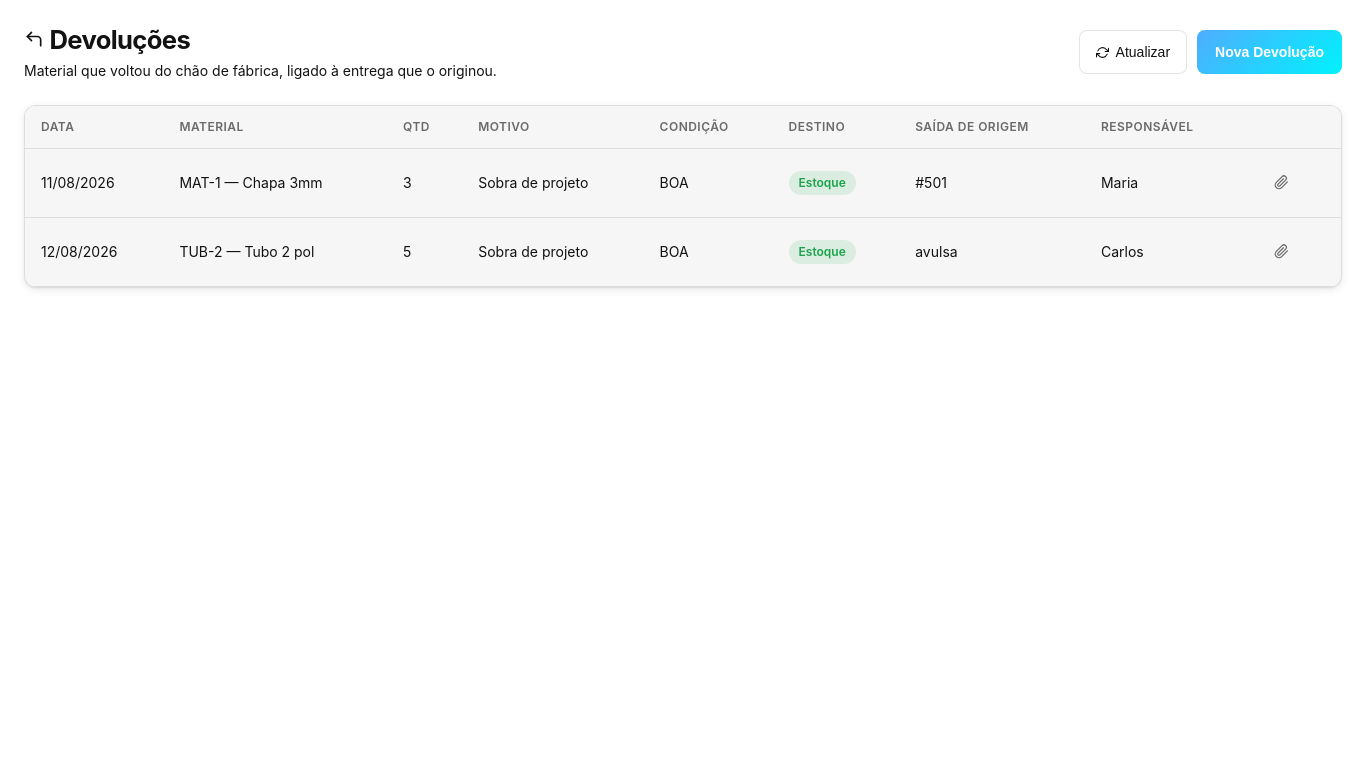
DevolucoesAlmoxarifado — lote e série › lote herdado da saída aparece em leitura, sem seletor
The width and height of the screenshot is (1366, 768).
Click the button "Nova Devolução" at coordinates (1270, 52), box [1197, 30, 1342, 74]
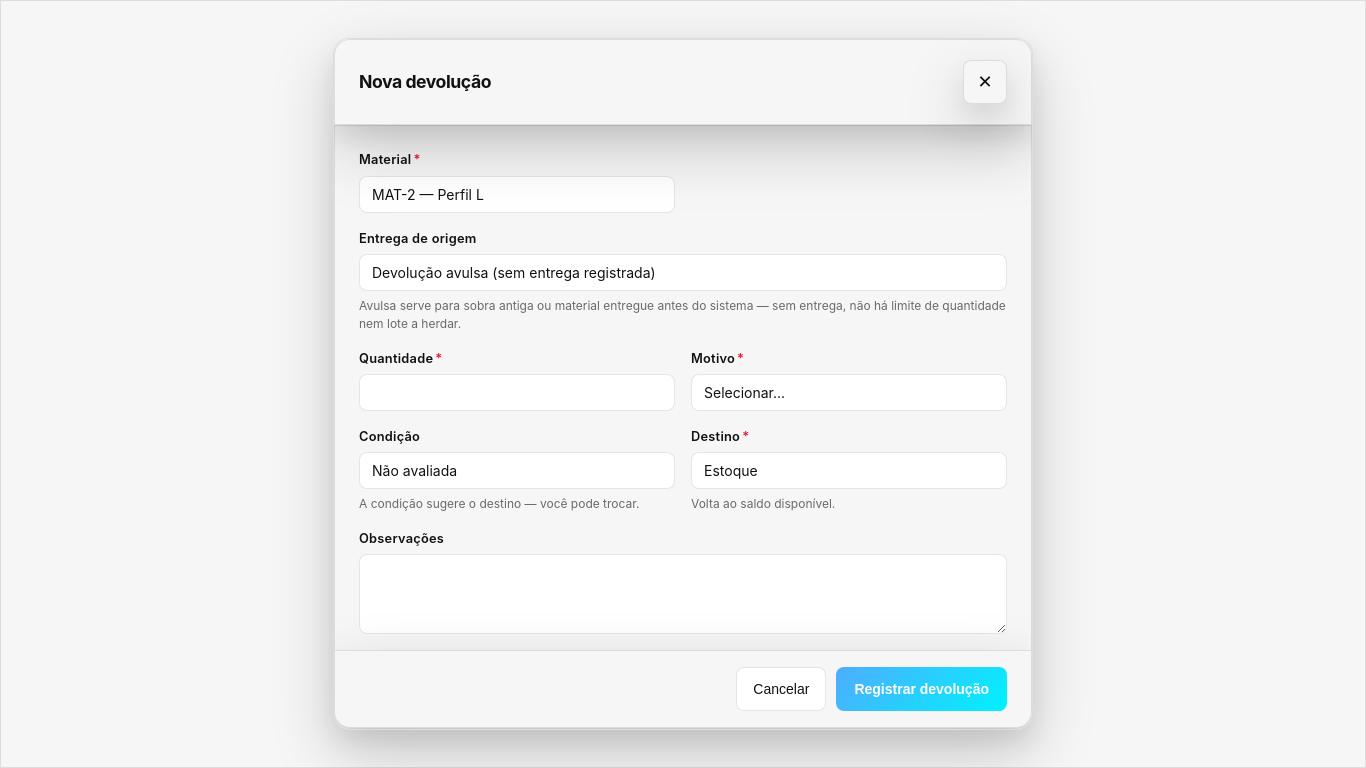
Select "MAT-2 — Perfil L" in the dropdown labelled "Material*" at coordinates (517, 194), box [359, 176, 675, 213]
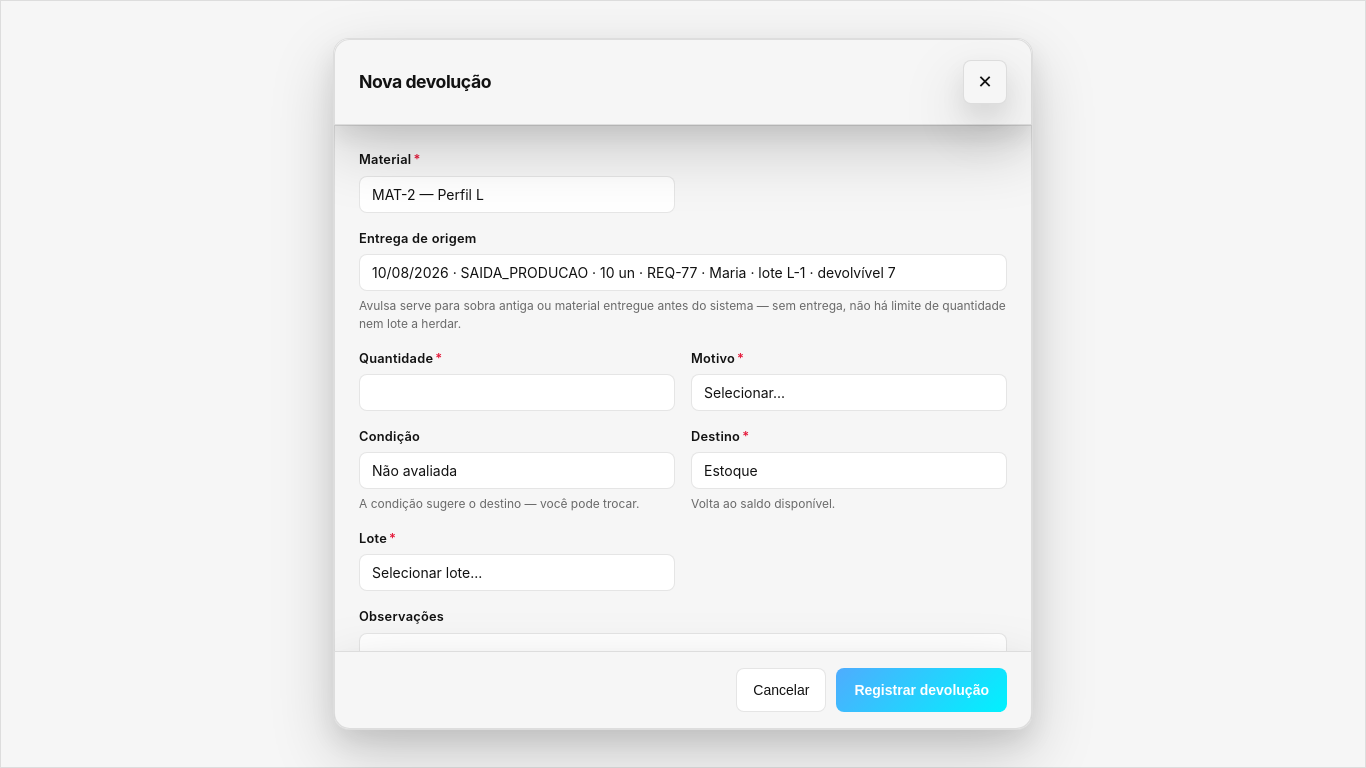
Select "10/08/2026 · SAIDA_PRODUCAO · 10 un · REQ-77 · Maria · lote L-1 · devolvível 7" in the dropdown labelled "Entrega de origem" at coordinates (683, 272), box [359, 254, 1007, 291]
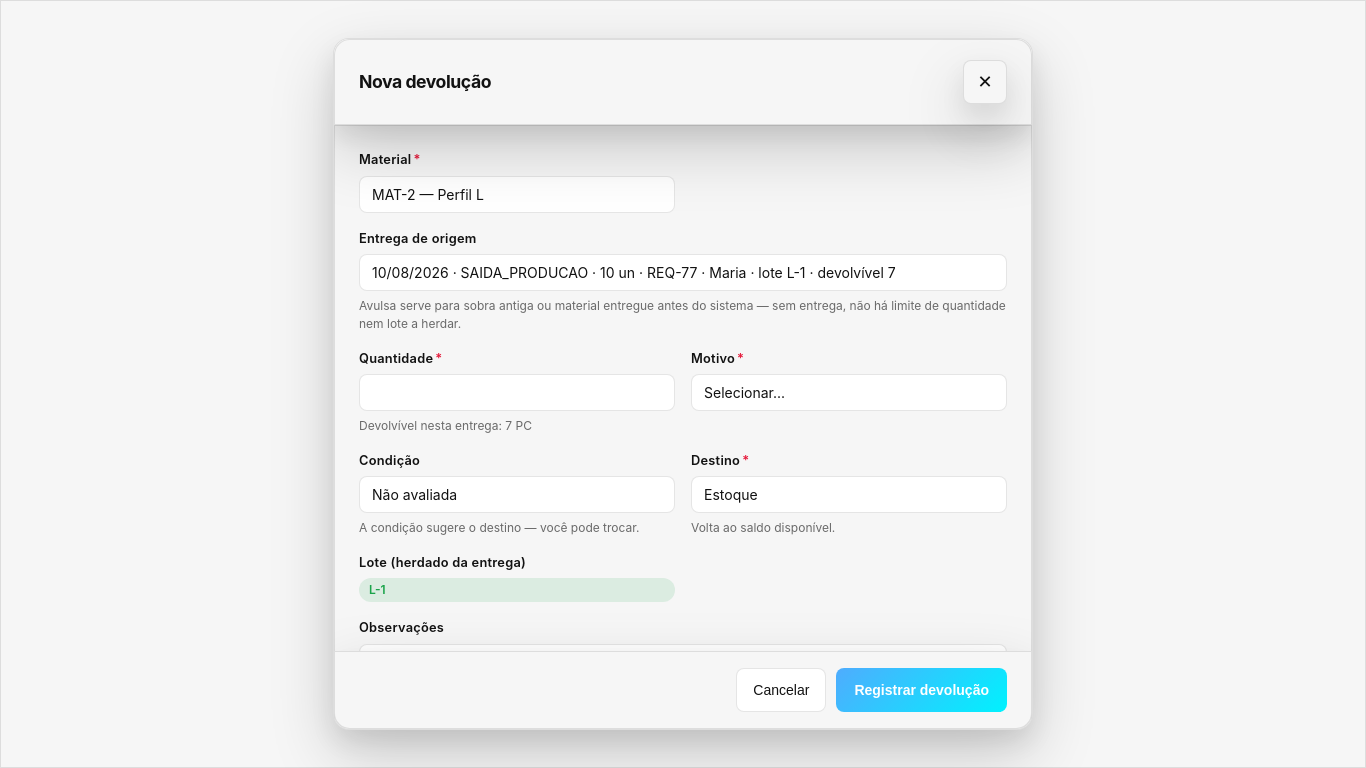
Expected: the element with class "almox-modal" shows "L-1", [369, 582, 386, 597]
